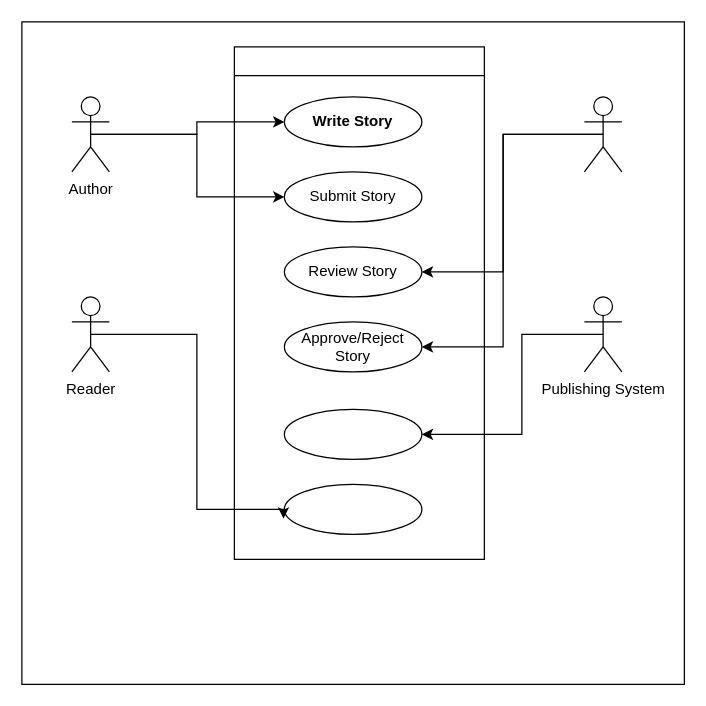
Some shapes in this 706 by 706 pixel diagram are drawn without their labels. Each missing label, with the box of its shape:
Editor: (583, 96, 622, 172)
Publish Story: (283, 408, 422, 459)
Publishing a Story: (233, 46, 484, 559)
Read Story: (283, 483, 422, 534)
